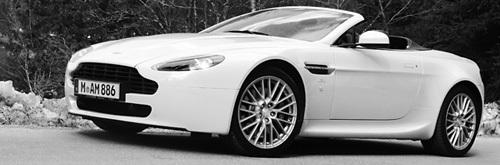car: (65, 7, 486, 158)
